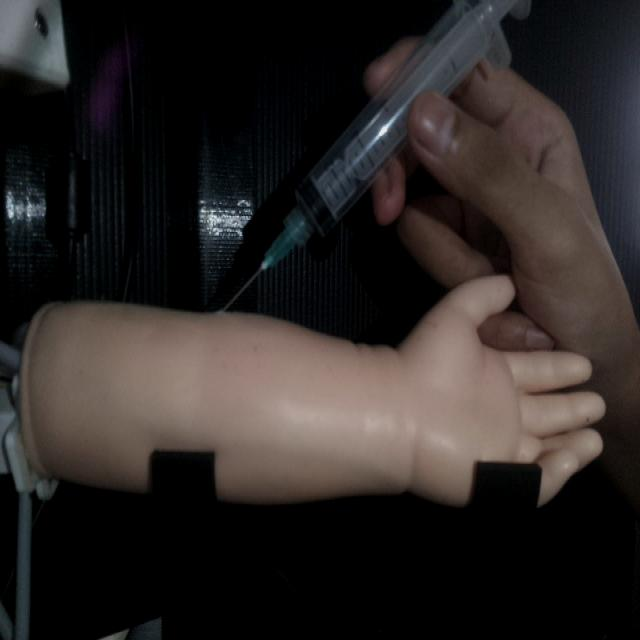Above 30 degrees: (214, 0, 532, 313)
